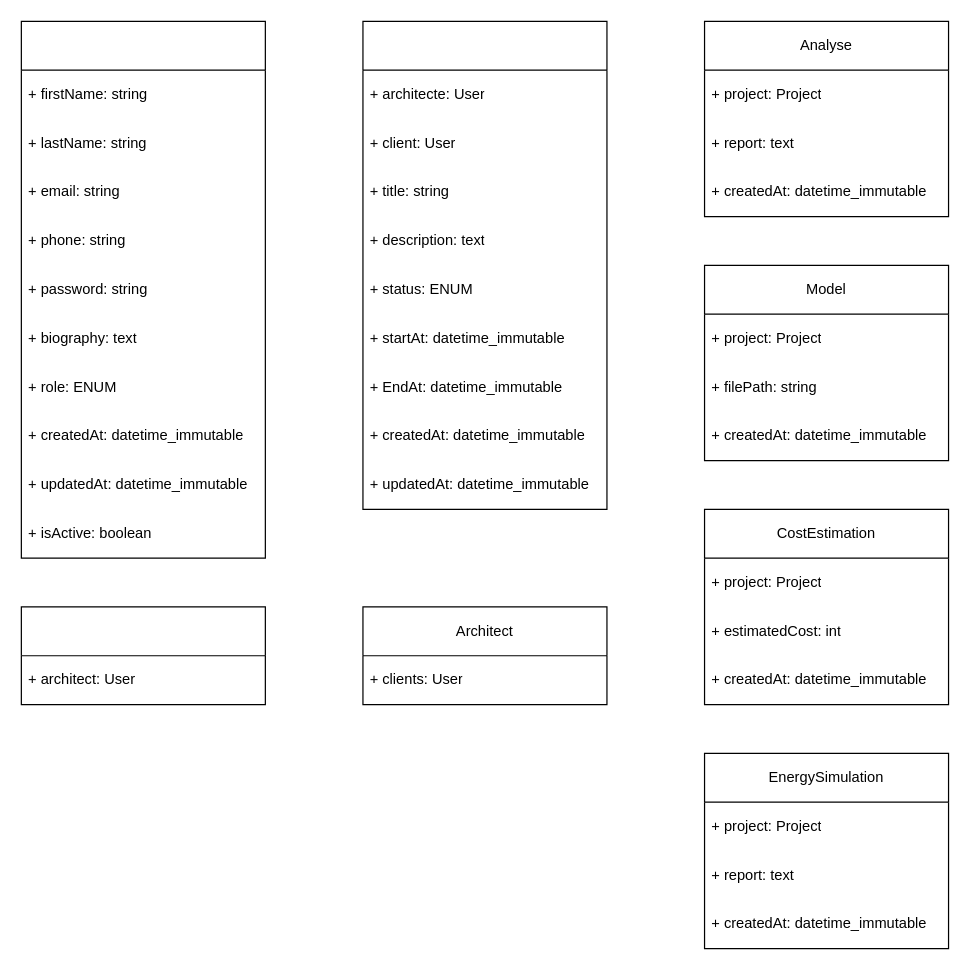
This 970x970 diagram has some shape labels left out. The shapes that lost their labels are listed below. From the top down, each one's box as (x1, y1, x2, y2) in pixels, then its label:
(362, 20, 607, 509): Project
(20, 20, 265, 558): User
(20, 606, 265, 705): Client
